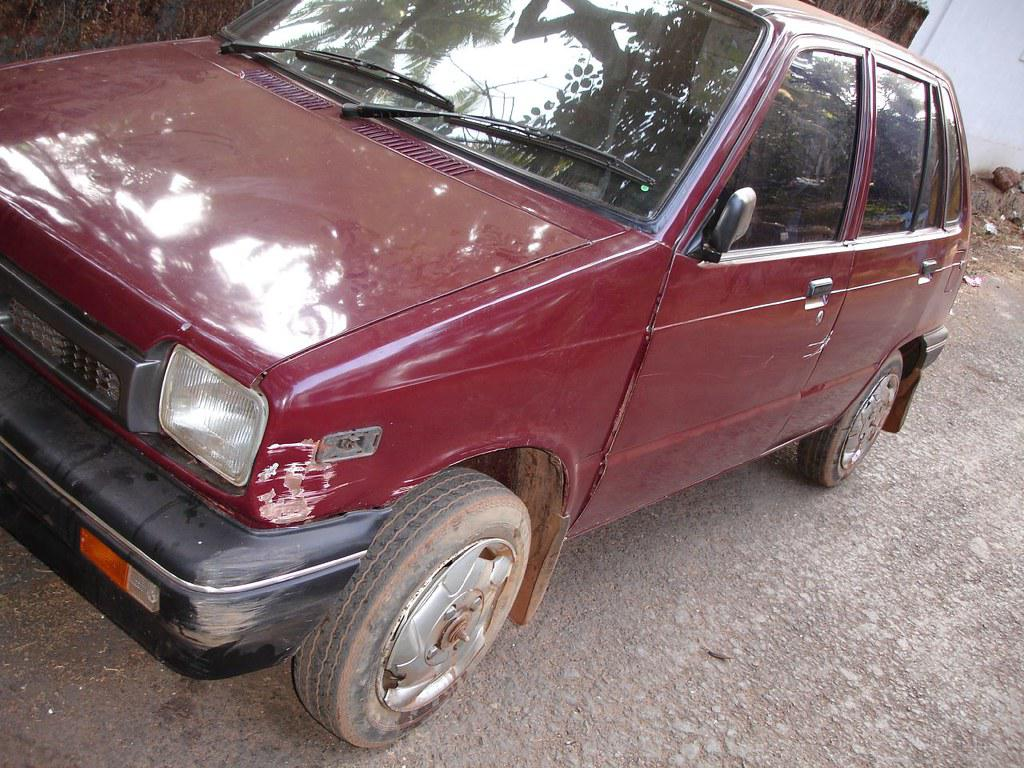front-bumper-dent: (245, 364, 618, 546)
